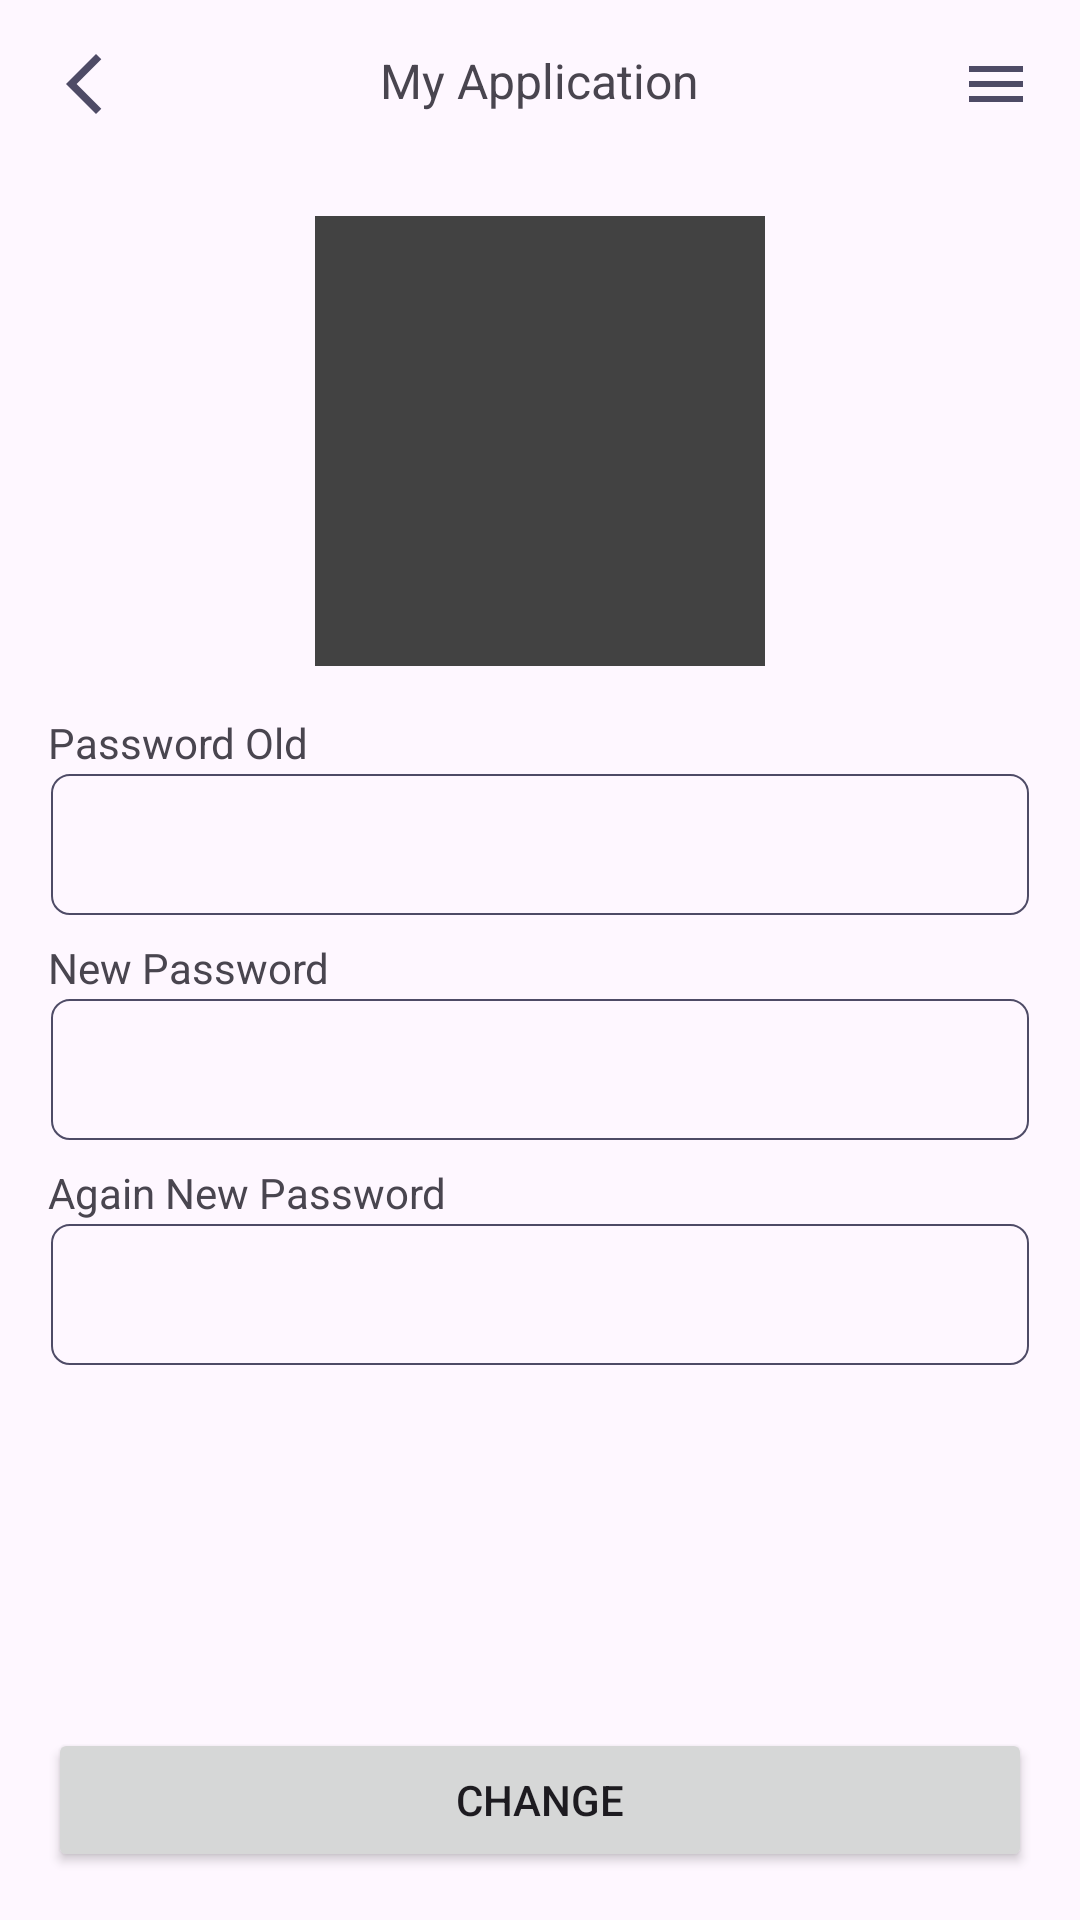

Where to tap for icons on this 1080px×1920px app screen, as (x=x, y=y):
arrow back: (x=83, y=84)
menu: (x=996, y=84)
